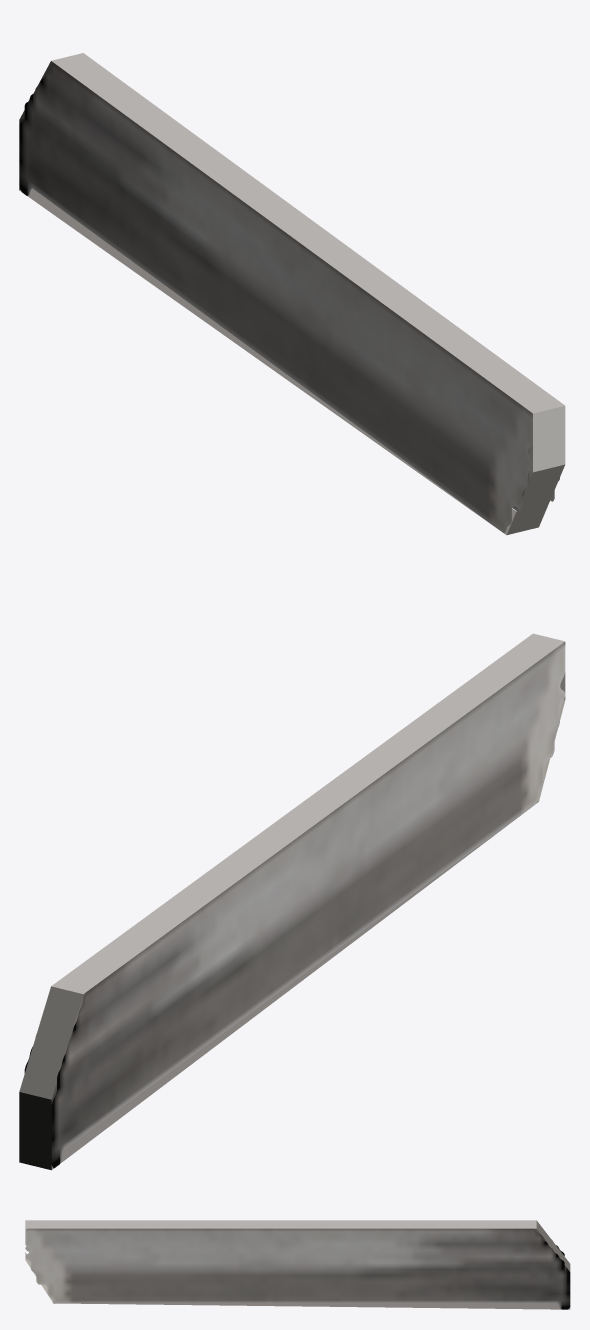
The model's file is pz_native_fixtures_railings_01_67_frame.obj.
3 renders of one model, top to bottom at view 1: azimuth 30°, elevation 25°; view 2: azimuth 150°, elevation 25°; view 3: azimuth 270°, elevation 25°, orthographic. The views are drawn at different scales.
Parts seen in each view (by area): view 1: pz_native_fixtures_railings_01_67_frame; view 2: pz_native_fixtures_railings_01_67_frame; view 3: pz_native_fixtures_railings_01_67_frame.
Boxes of the visible parts, x1,y1,x2,y2 form: pz_native_fixtures_railings_01_67_frame: (19, 53, 565, 535); pz_native_fixtures_railings_01_67_frame: (19, 633, 565, 1170); pz_native_fixtures_railings_01_67_frame: (25, 1220, 570, 1309).
Size of the model in its own units: 0.045 by 0.2344 by 1.28.
Materials: 1 (1 with a texture image).
